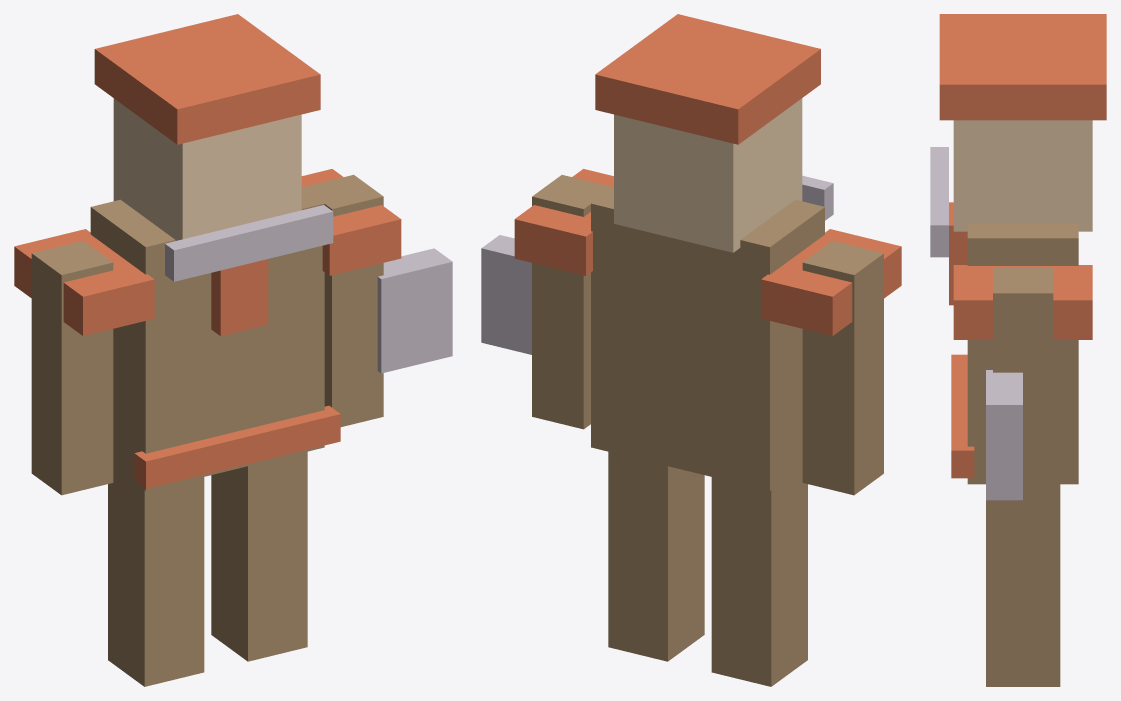
The model's file is 16_vale_emberkin_scout_under_magnet.glb.
The picture shows the model from 3 angles, left to right: view 1: azimuth 30°, elevation 25°; view 2: azimuth 150°, elevation 25°; view 3: azimuth 270°, elevation 25°; orthographic projection.
Visible parts, largest first — view 1: Vale Emberkin, Scout under Magnet; view 2: Vale Emberkin, Scout under Magnet; view 3: Vale Emberkin, Scout under Magnet.
Part boxes in pixels (left/top/right/bottom): Vale Emberkin, Scout under Magnet: left=14, top=14, right=452, bottom=686; Vale Emberkin, Scout under Magnet: left=481, top=14, right=901, bottom=686; Vale Emberkin, Scout under Magnet: left=930, top=14, right=1106, bottom=686.
Size of the model in its own units: 0.9665 by 1.41 by 0.3767.
